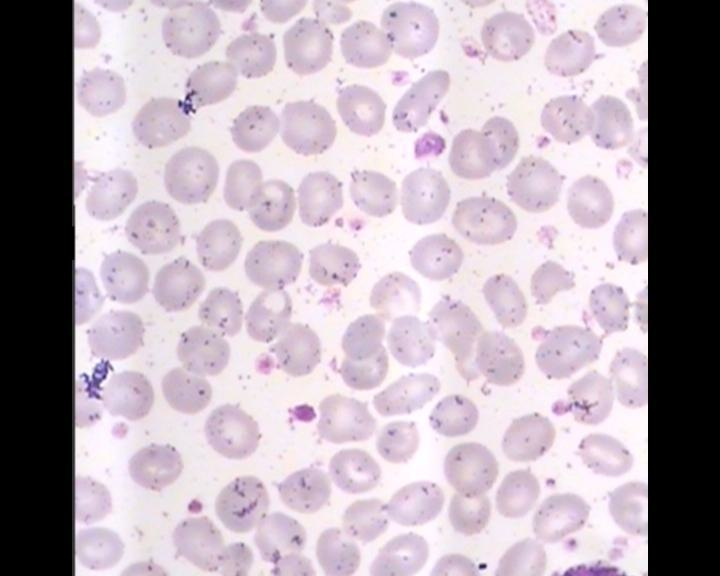baso: (550, 554, 637, 576)
